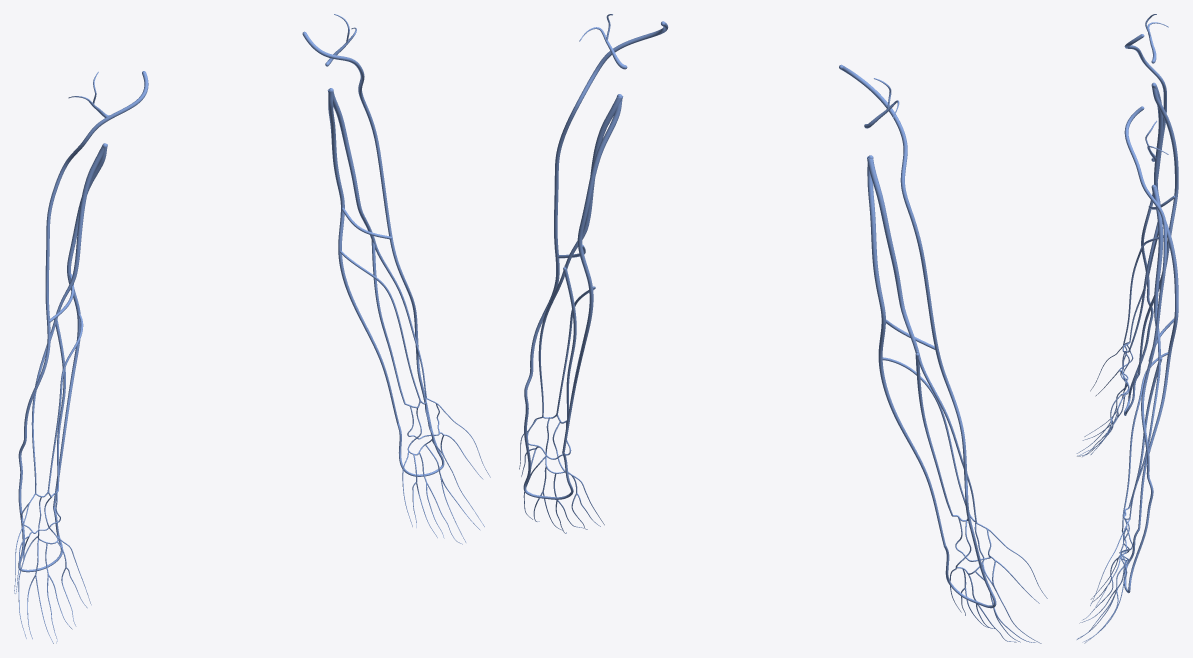
File: veines-membre-sup.hi.glb
3 renders of one model, left to right at view 1: azimuth 30°, elevation 25°; view 2: azimuth 150°, elevation 25°; view 3: azimuth 270°, elevation 25°, orthographic. The views are drawn at different scales.
Visible parts, largest first — view 1: FJ2272, FJ2220, FJ2218, FJ2270, FJ2341, FJ2313; view 2: FJ2272, FJ2220, FJ2270, FJ2218, FJ2341; view 3: FJ2220, FJ2218, FJ2272, FJ2270, FJ2313, FJ2341, FJ2244, FJ2234, FJ2260, FJ2312, FJ2286, FJ2228 (+4 smaller).
Boxes of the visible parts, x1,y1,x2,y2 form: FJ2272: (18,71,148,526); FJ2220: (302,31,431,427); FJ2218: (328,88,398,423); FJ2270: (53,143,107,507); FJ2341: (55,144,107,319); FJ2313: (327,89,375,241); FJ2272: (839,64,982,567); FJ2220: (524,21,668,457); FJ2270: (867,155,945,545); FJ2218: (562,94,622,453); FJ2341: (867,156,918,353); FJ2220: (1124,106,1166,554); FJ2218: (1138,184,1178,528); FJ2272: (1124,34,1166,370); FJ2270: (1138,82,1178,374); FJ2313: (1152,186,1163,359); FJ2341: (1152,85,1163,204); FJ2244: (1129,356,1160,518); FJ2234: (1122,352,1168,518); FJ2260: (1124,357,1162,516); FJ2312: (1123,222,1158,352); FJ2286: (1122,235,1163,350); FJ2228: (1124,529,1139,593).
Size of the model in its own units: 0.6487 by 0.6759 by 0.1308.
